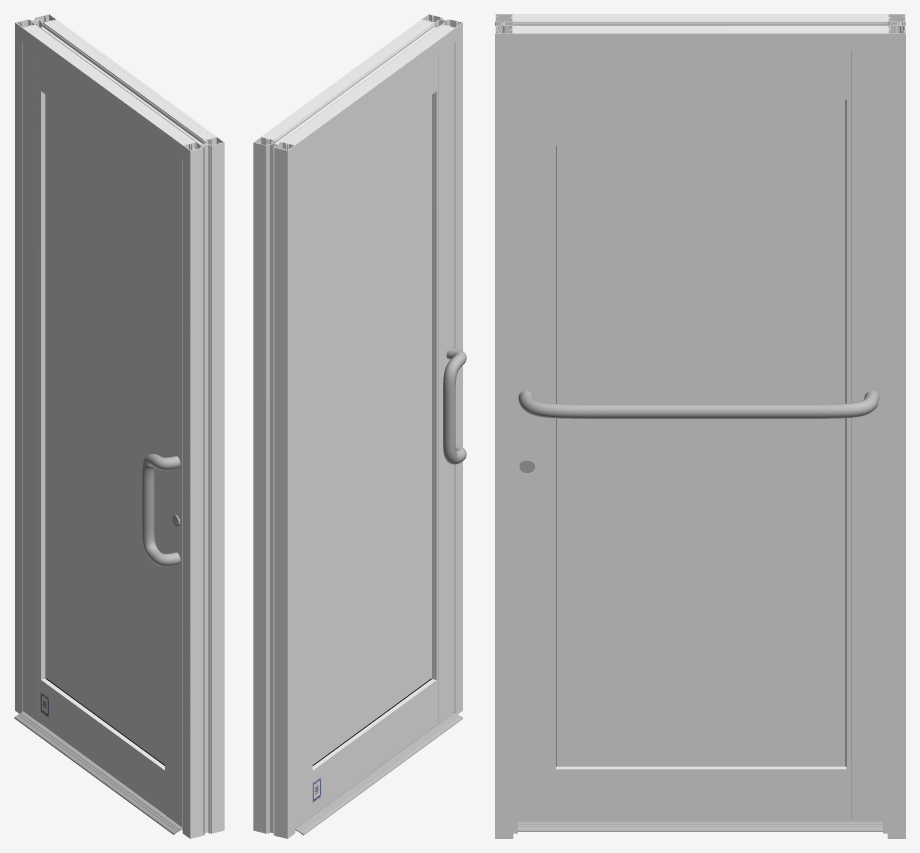
The model's file is Framed_D350_Single_Animated_WT.glb.
3 views of the same model, side by side, from view 1: azimuth 30°, elevation 25°; view 2: azimuth 150°, elevation 25°; view 3: azimuth 270°, elevation 25° (orthographic). The views are drawn at different scales.
Parts seen in each view (by area): view 1: Cube.010, PROFILE_curve_.018, D350, PROFILE_curve_.063, PROFILE_curve_.019, PROFILE_curve_.062, PROFILE_curve_.023, PROFILE_curve_.061, PROFILE_curve_.014, PROFILE_curve_.008, PROFILE_curve_.016, BézierCurve.001; view 2: Cube.010, PROFILE_curve_.022, PROFILE_curve_.063, D350, PROFILE_curve_.023, PROFILE_curve_.062, PROFILE_curve_.019, PROFILE_curve_.061, PROFILE_curve_.014, PROFILE_curve_.008, PROFILE_curve_.016, BézierCurve.001; view 3: Cube.010, PROFILE_curve_.063, D350, PROFILE_curve_.062, PROFILE_curve_.023, PROFILE_curve_.019, PROFILE_curve_.061, PROFILE_curve_.008, PROFILE_curve_.014, NurbsPath.001, PROFILE_curve_.016, 0_curve_.009 (+2 smaller).
Boxes of the visible parts, box(x1,y1,x2,y2) form: Cube.010: box(45, 94, 164, 764); PROFILE_curve_.018: box(193, 142, 221, 837); D350: box(23, 42, 45, 723); PROFILE_curve_.063: box(165, 146, 182, 827); PROFILE_curve_.019: box(182, 137, 224, 838); PROFILE_curve_.062: box(41, 678, 164, 814); PROFILE_curve_.023: box(15, 14, 56, 713); PROFILE_curve_.061: box(41, 56, 164, 181); PROFILE_curve_.014: box(26, 20, 212, 144); PROFILE_curve_.008: box(22, 19, 216, 158); PROFILE_curve_.016: box(14, 712, 182, 834); BézierCurve.001: box(141, 454, 180, 566); Cube.010: box(312, 95, 431, 764); PROFILE_curve_.022: box(256, 142, 284, 837); PROFILE_curve_.063: box(432, 43, 454, 723); D350: box(295, 147, 312, 827); PROFILE_curve_.023: box(253, 137, 295, 838); PROFILE_curve_.062: box(312, 679, 436, 814); PROFILE_curve_.019: box(421, 14, 462, 714); PROFILE_curve_.061: box(312, 56, 436, 181); PROFILE_curve_.014: box(265, 20, 451, 144); PROFILE_curve_.008: box(261, 19, 455, 158); PROFILE_curve_.016: box(295, 712, 462, 835); BézierCurve.001: box(443, 346, 466, 464); Cube.010: box(556, 80, 846, 766); PROFILE_curve_.063: box(518, 50, 555, 820); D350: box(846, 50, 882, 820); PROFILE_curve_.062: box(556, 766, 846, 820); PROFILE_curve_.023: box(887, 14, 905, 838); PROFILE_curve_.019: box(495, 14, 513, 838); PROFILE_curve_.061: box(556, 50, 846, 80); PROFILE_curve_.008: box(513, 14, 887, 49); PROFILE_curve_.014: box(513, 16, 887, 31); NurbsPath.001: box(518, 390, 879, 418); PROFILE_curve_.016: box(518, 821, 882, 831); 0_curve_.009: box(883, 50, 887, 833).
Bounding box in the file's own units: 0.2107 × 2.18 × 1.01.
6 materials, 1 textured.
